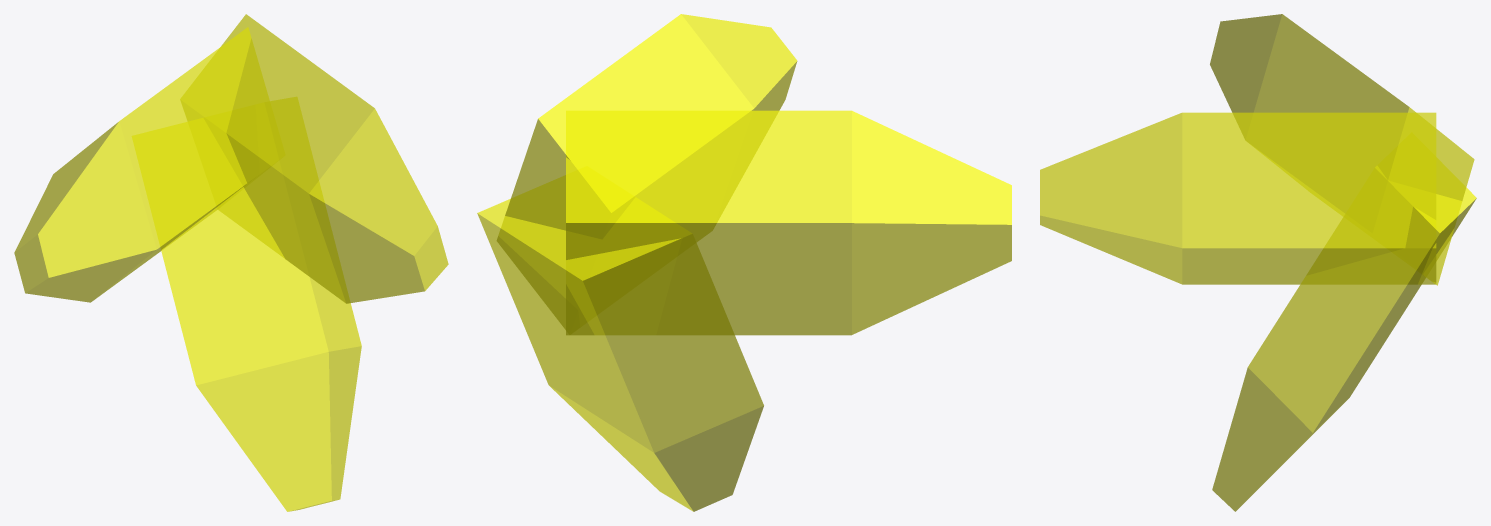
The model's file is fluorite.glb.
The picture shows the model from 3 angles, left to right: view 1: azimuth 30°, elevation 25°; view 2: azimuth 150°, elevation 25°; view 3: azimuth 270°, elevation 25°; orthographic projection. The views are drawn at different scales.
Visible parts, largest first — view 1: Cube.002, Cube.003, Cube.001; view 2: Cube.001, Cube.002, Cube.003; view 3: Cube.003, Cube.002, Cube.001.
Boxes of the visible parts, box(x1,y1,x2,y2) form: Cube.002: box(132, 97, 361, 511); Cube.003: box(180, 14, 448, 303); Cube.001: box(14, 27, 269, 302); Cube.001: box(566, 110, 1011, 335); Cube.002: box(477, 175, 763, 511); Cube.003: box(496, 14, 797, 334); Cube.003: box(1040, 112, 1436, 284); Cube.002: box(1212, 158, 1476, 511); Cube.001: box(1210, 14, 1474, 285).
Size of the model in its own units: 0.4257 by 0.4408 by 0.427.
